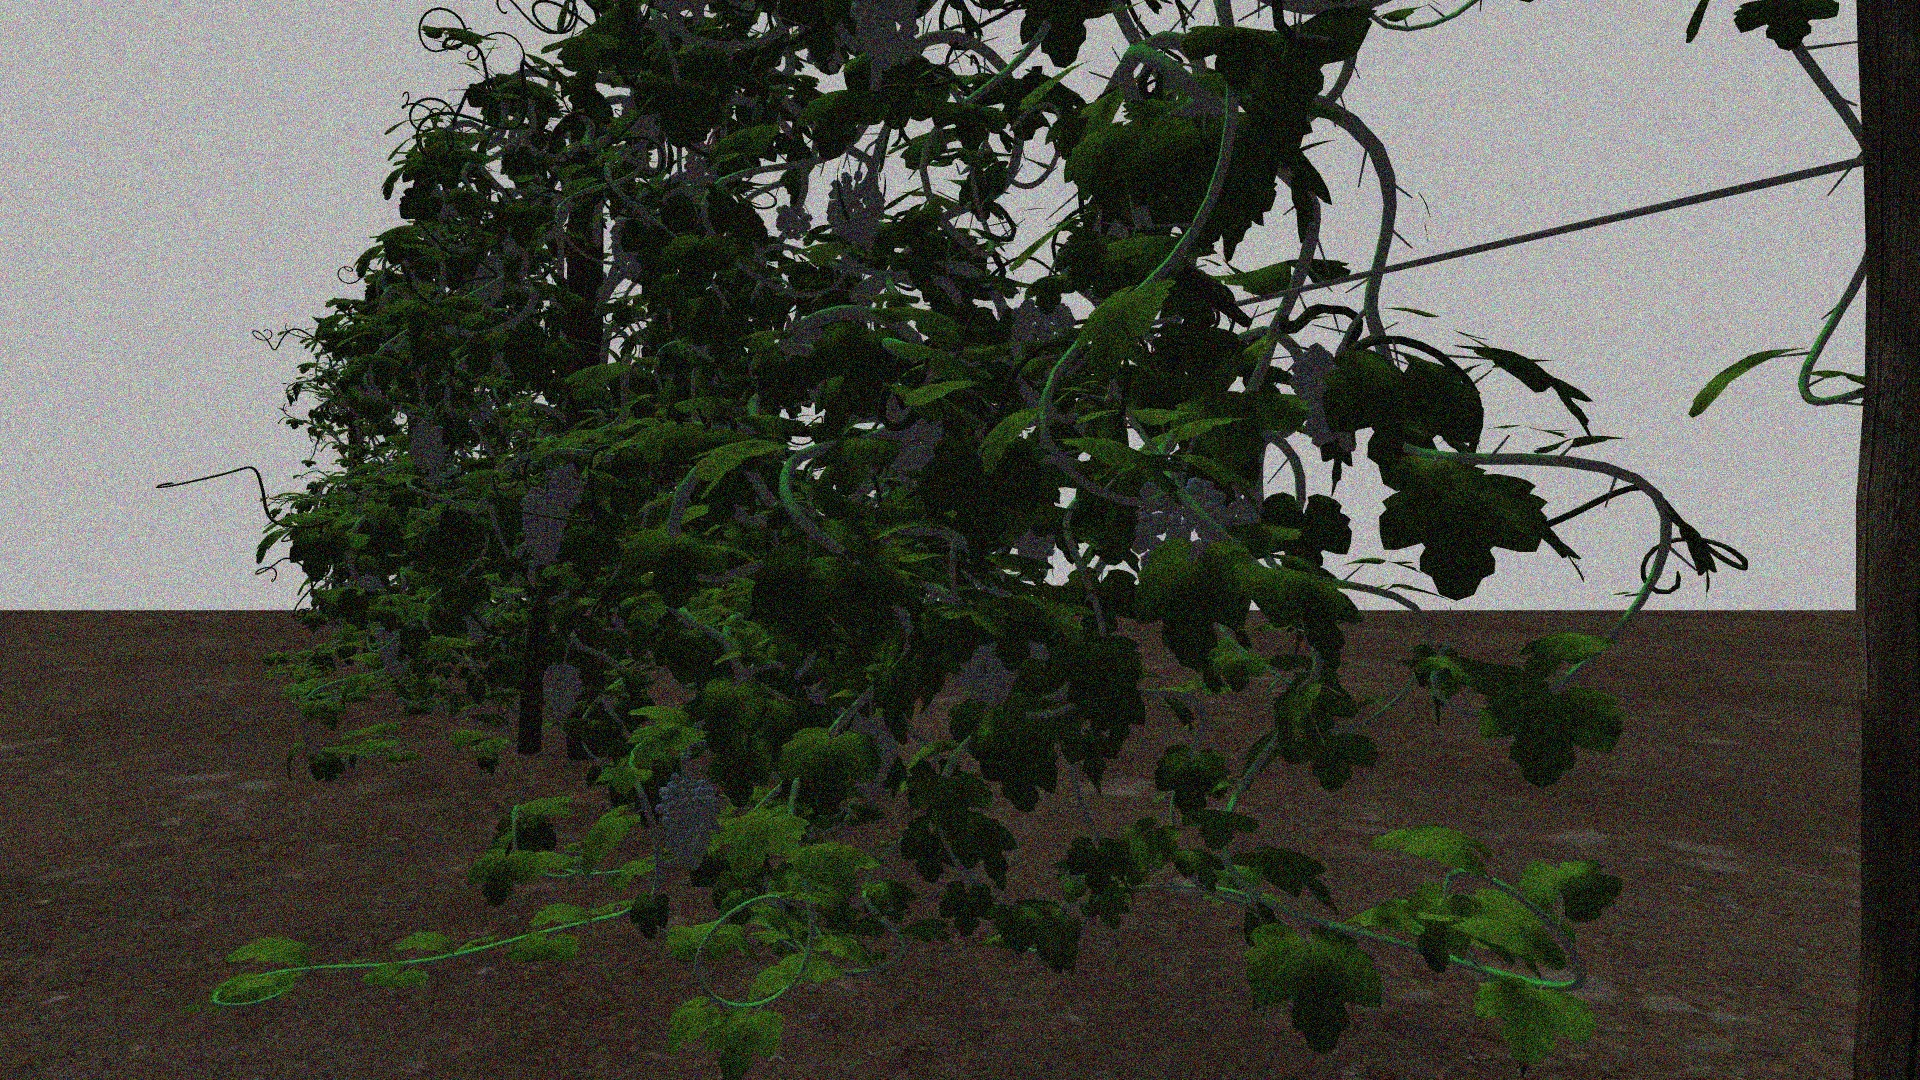grape: (1135, 471, 1226, 550), (1291, 345, 1354, 451), (654, 771, 720, 872), (825, 170, 887, 247), (851, 7, 920, 70), (884, 402, 940, 479), (963, 636, 1021, 709), (1009, 299, 1073, 365), (521, 488, 564, 564), (541, 663, 583, 723), (611, 219, 641, 280), (547, 464, 585, 512), (473, 255, 505, 310), (376, 624, 407, 679), (682, 145, 717, 190), (771, 204, 812, 241), (421, 425, 444, 480), (410, 421, 427, 473), (464, 611, 489, 644)
